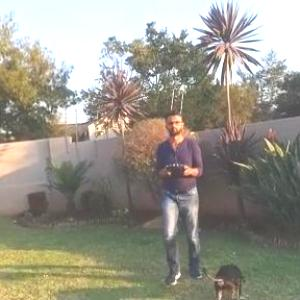follow: (153, 105, 208, 289)
null: (202, 263, 252, 299)
